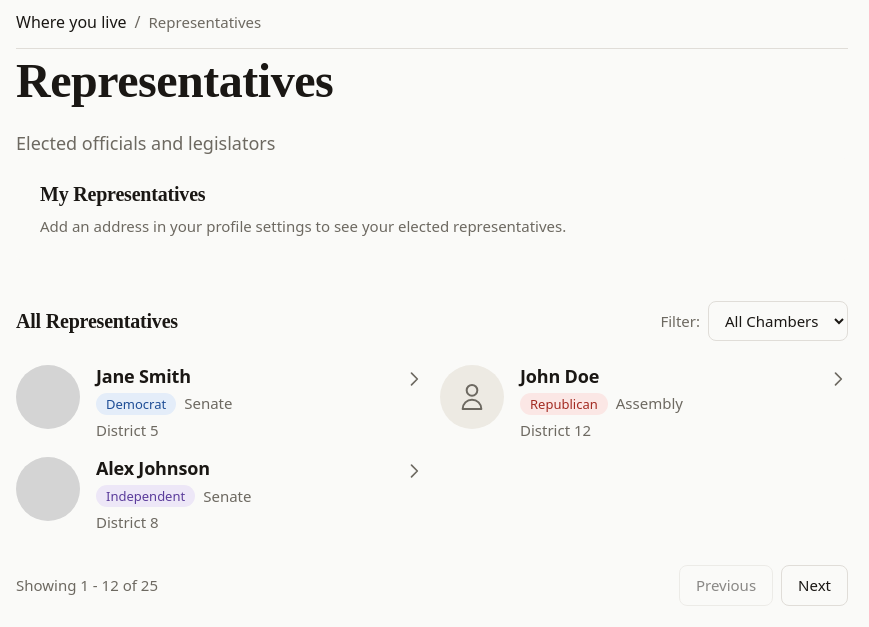
Test: RepresentativesPage › pagination › should navigate pages when buttons are clicked
Click the button "Next".
click(815, 586)  # box 781,565 -> 848,606
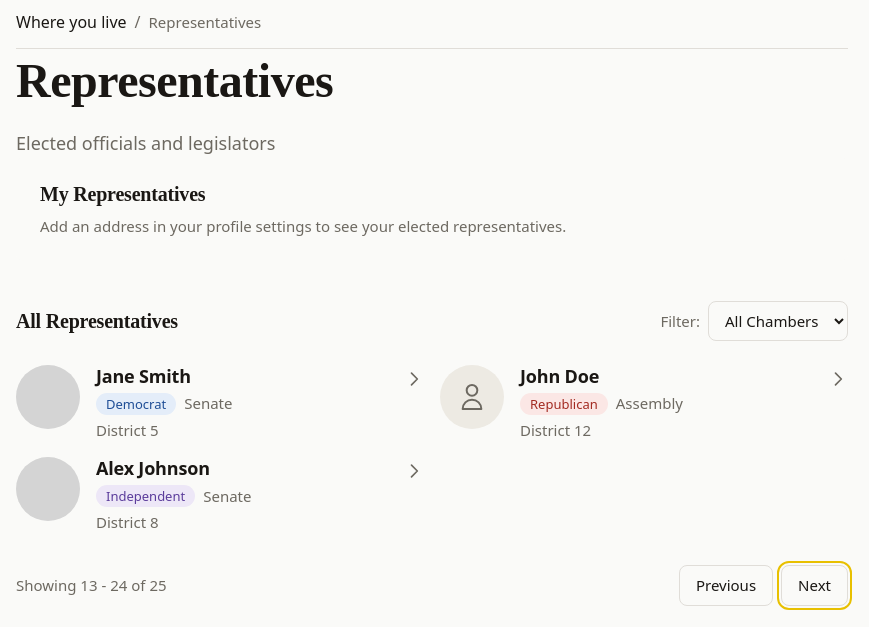
expect the button "Previous" is enabled: met, box 679,565 -> 773,606
